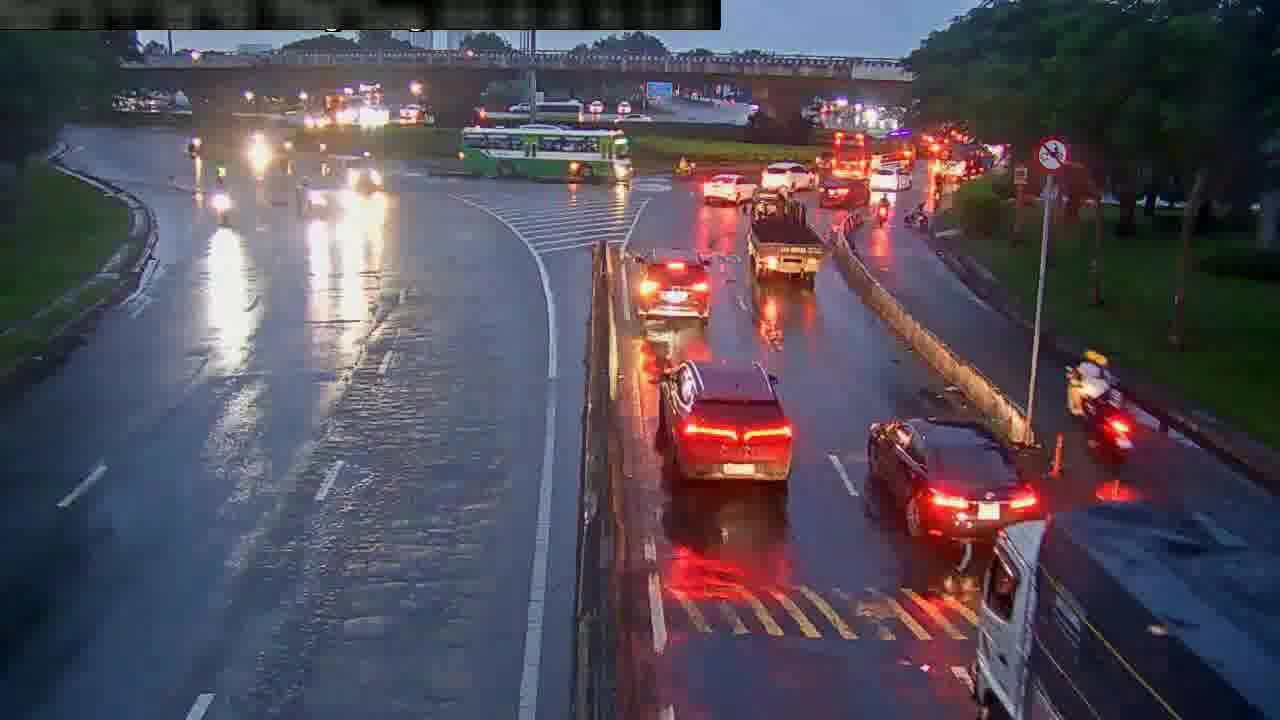14: (454, 119, 633, 188)
8: (977, 514, 1275, 720), (746, 198, 828, 285)
container: (865, 419, 1040, 542), (656, 362, 793, 490), (629, 250, 718, 324), (817, 175, 873, 211), (701, 169, 760, 203), (759, 163, 818, 192), (869, 165, 913, 194)
motorbike: (1063, 349, 1123, 425), (1080, 384, 1131, 460), (209, 173, 235, 226)
